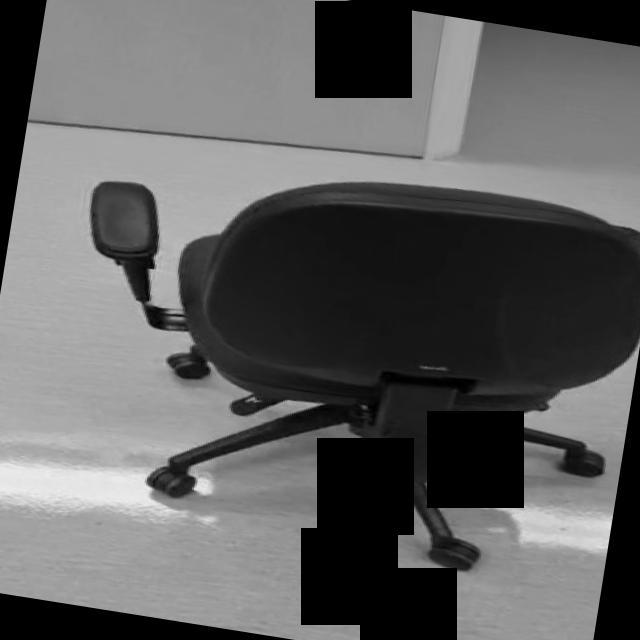chair: (42, 130, 640, 590)
